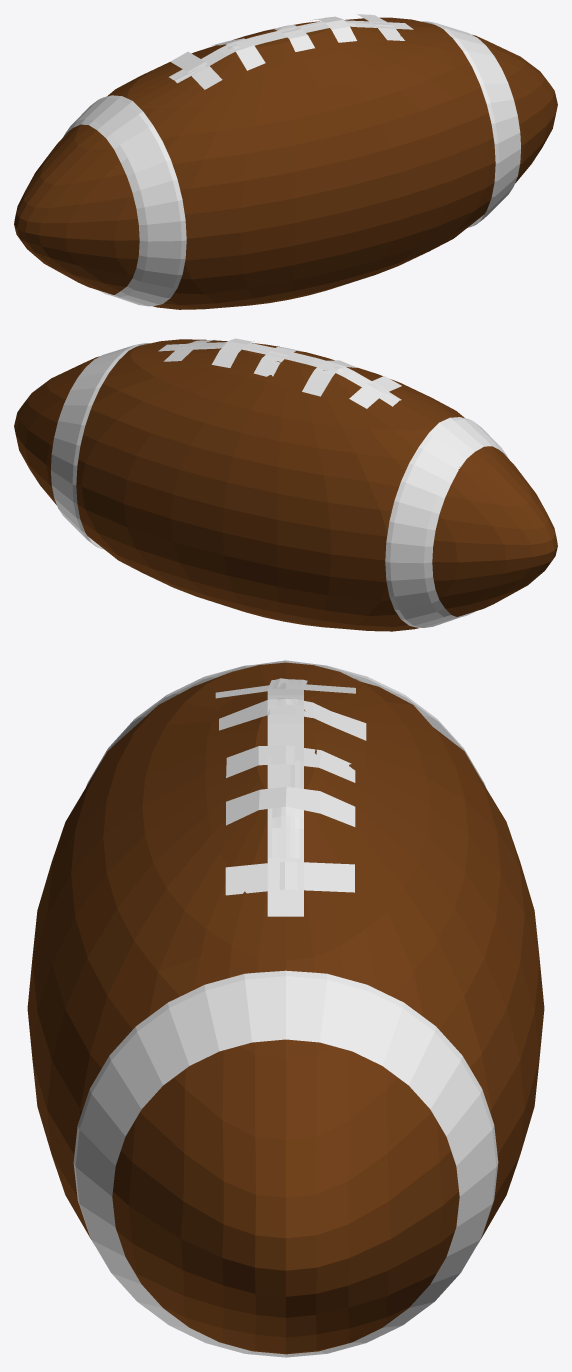
File: footballsingle.fbx
3 renders of one model, top to bottom at view 1: azimuth 30°, elevation 25°; view 2: azimuth 150°, elevation 25°; view 3: azimuth 270°, elevation 25°, orthographic. The views are drawn at different scales.
Visible parts, largest first — view 1: Football.001, Circle.001, Circle, Plane, Plane.001, Plane.005, Plane.004, Plane.002, Plane.003; view 2: Football.001, Circle.001, Circle, Plane, Plane.005, Plane.001, Plane.002, Plane.004; view 3: Football.001, Circle, Plane, Plane.003, Plane.004, Plane.002, Plane.005, Circle.001, Plane.001.
Boxes of the visible parts, bbox=[...] form: Football.001: bbox=[14, 17, 557, 309]; Circle.001: bbox=[63, 95, 186, 306]; Circle: bbox=[422, 21, 520, 227]; Plane: bbox=[168, 20, 413, 83]; Plane.001: bbox=[170, 51, 222, 89]; Plane.005: bbox=[211, 38, 265, 70]; Plane.004: bbox=[310, 16, 356, 42]; Plane.002: bbox=[270, 24, 314, 51]; Plane.003: bbox=[356, 14, 404, 40]; Football.001: bbox=[14, 339, 557, 631]; Circle.001: bbox=[385, 417, 508, 627]; Circle: bbox=[51, 343, 149, 549]; Plane: bbox=[158, 342, 401, 406]; Plane.005: bbox=[302, 360, 357, 396]; Plane.001: bbox=[349, 376, 401, 408]; Plane.002: bbox=[253, 347, 303, 376]; Plane.004: bbox=[211, 338, 258, 367]; Football.001: bbox=[27, 662, 544, 1354]; Circle: bbox=[73, 970, 498, 1357]; Plane: bbox=[267, 678, 307, 916]; Plane.003: bbox=[225, 861, 354, 895]; Plane.004: bbox=[226, 786, 355, 826]; Plane.002: bbox=[226, 745, 355, 782]; Plane.005: bbox=[219, 699, 366, 740]; Circle.001: bbox=[86, 660, 485, 787]; Plane.001: bbox=[215, 683, 355, 698].
Size of the model in its own units: 1.32 by 0.6022 by 0.55.
